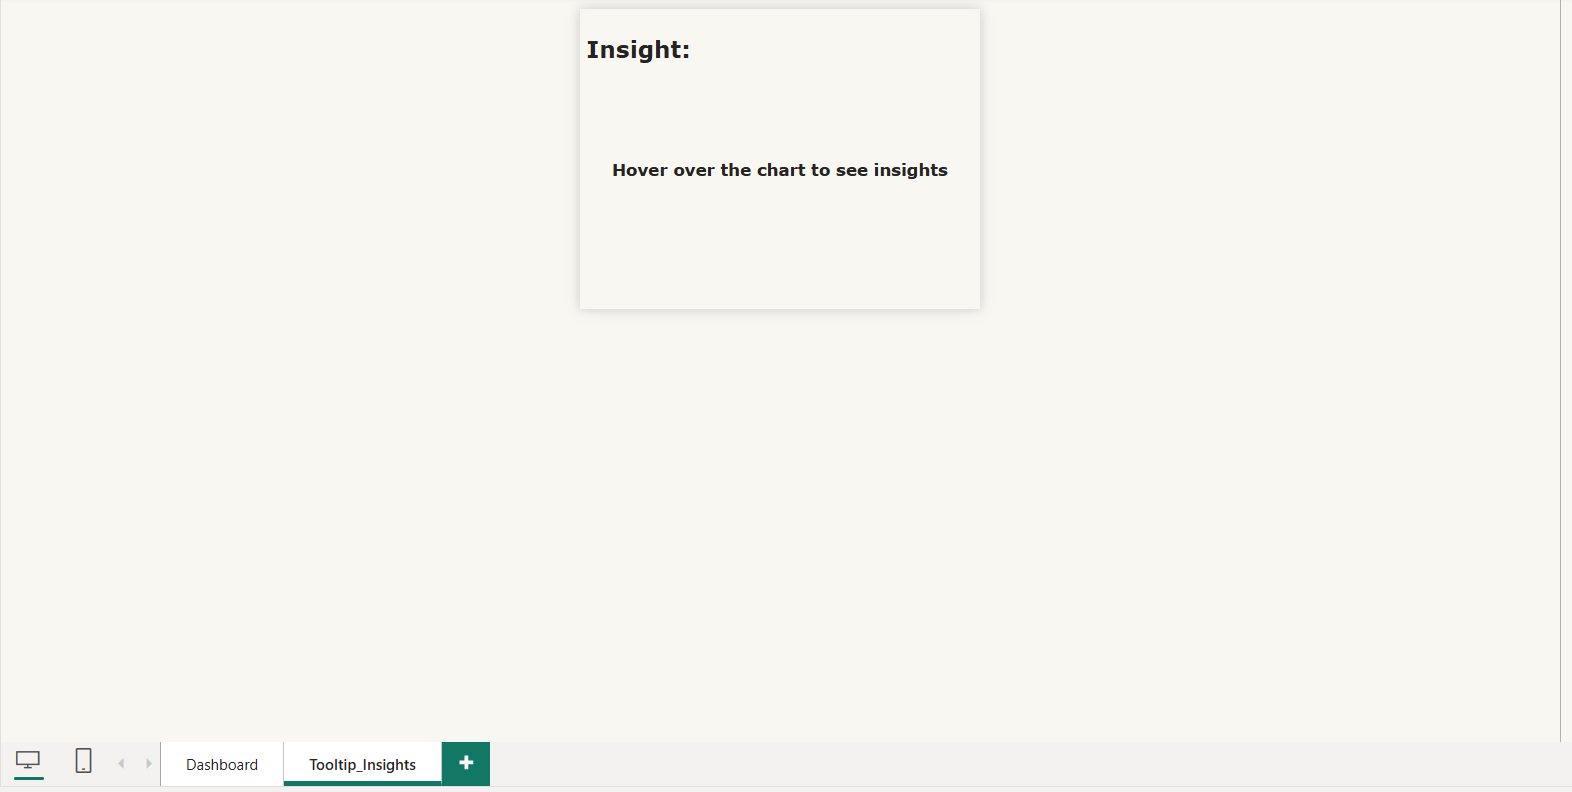

This screenshot's page, from the dashboard's own definition file:
{"tool":"powerbi","page":{"name":"Tooltip_Insights","canvas":[320,240],"ordinal":1},"visuals":[{"type":"textbox","box":[21,109,256,83],"z":0},{"type":"card","title":"Insight:","fields":{"Values":["ChartIdentifier.Insight Text"]},"box":[0,21,320,198],"z":1000}]}

Visuals, with their boxes on the page's 320x240 design canvas (x1, y1, x2, y2). These are canvas units, not pixel positions in the 1572x792 screenshot, which may show the page scaled, cropped or inside an application window:
textbox: 21:109:277:192
"Insight:" card: 0:21:320:219
